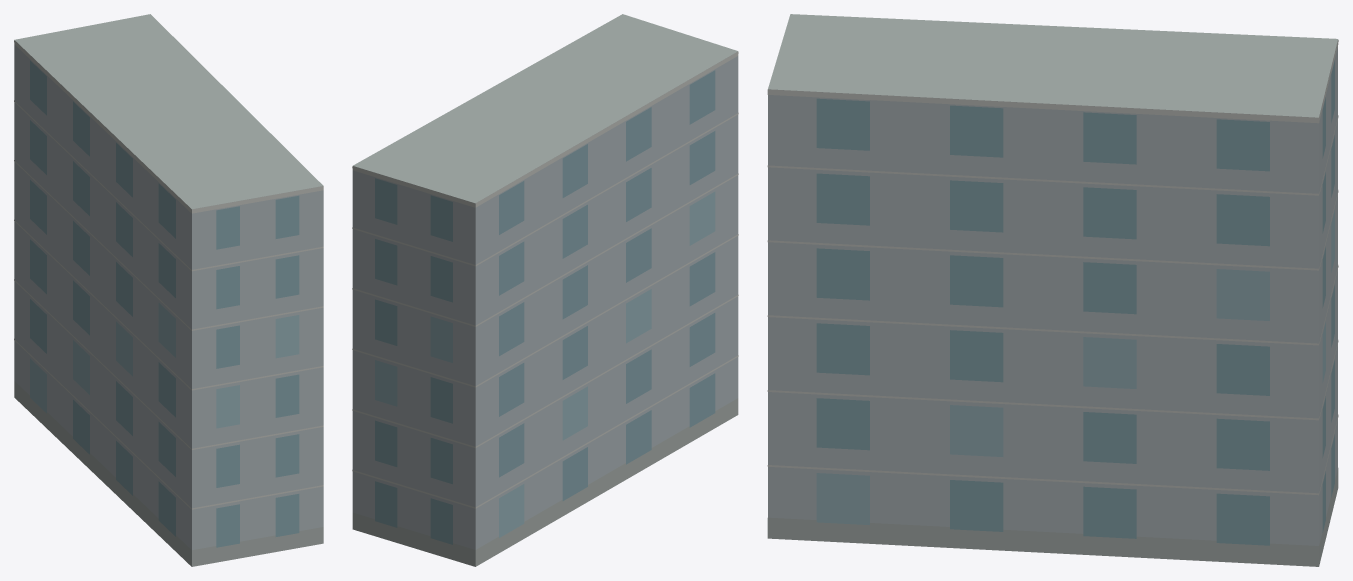
The model's file is survey-upis-32828274.glb.
3 renders of one model, left to right at view 1: azimuth 30°, elevation 25°; view 2: azimuth 150°, elevation 25°; view 3: azimuth 270°, elevation 25°, orthographic. The views are drawn at different scales.
Parts seen in each view (by area): view 1: survey-upis-32828274.tmp; view 2: survey-upis-32828274.tmp; view 3: survey-upis-32828274.tmp.
Part boxes in pixels (x1=…): survey-upis-32828274.tmp: x1=14, y1=14, x2=323, y2=566; survey-upis-32828274.tmp: x1=352, y1=14, x2=738, y2=566; survey-upis-32828274.tmp: x1=767, y1=14, x2=1338, y2=566.
Size of the model in its own units: 9.75 by 19.65 by 22.64.
